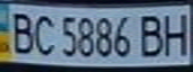5: (54, 12, 78, 59)
6: (112, 12, 139, 59)
8: (93, 14, 115, 58), (75, 14, 96, 58)
B: (3, 8, 39, 56), (136, 11, 169, 58)
C: (30, 11, 57, 56)
H: (157, 9, 193, 56)
